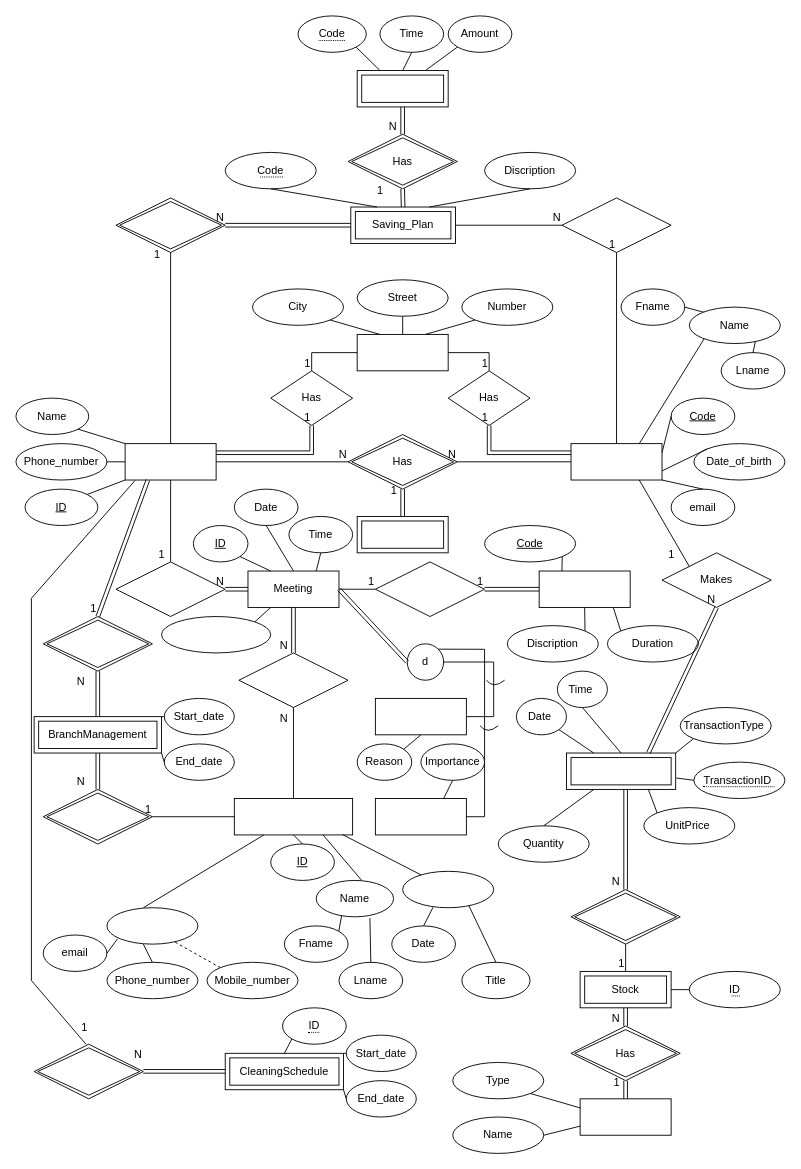
The diagram is 801 pixels wide and 1169 high, and some of its shapes have lost their labels. Here are the shapes that lost their labels. From the top down, the centre of each, then its label:
At pixel 402 88: "Deposit".
At pixel 170 225: "Provides".
At pixel 616 225: "Applicant".
At pixel 402 352: "Address".
At pixel 170 461: "Branch".
At pixel 616 461: "Customer".
At pixel 402 534: "Account".
At pixel 170 589: "Holds".
At pixel 429 589: "Written".
At pixel 584 588: "Report".
At pixel 97 643: "Manage".
At pixel 216 634: "List_of_contents".
At pixel 293 680: "Participate".
At pixel 420 716: "Normal_meeting".
At pixel 621 770: "StockTransaction".
At pixel 97 816: "Performs".
At pixel 293 816: "Local_Manager".
At pixel 420 816: "Special_meeting".
At pixel 448 889: "Last_degree".
At pixel 152 925: "Contact".
At pixel 625 916: "Involves".
At pixel 88 1071: "Cleaned".
At pixel 625 1116: "Company".
